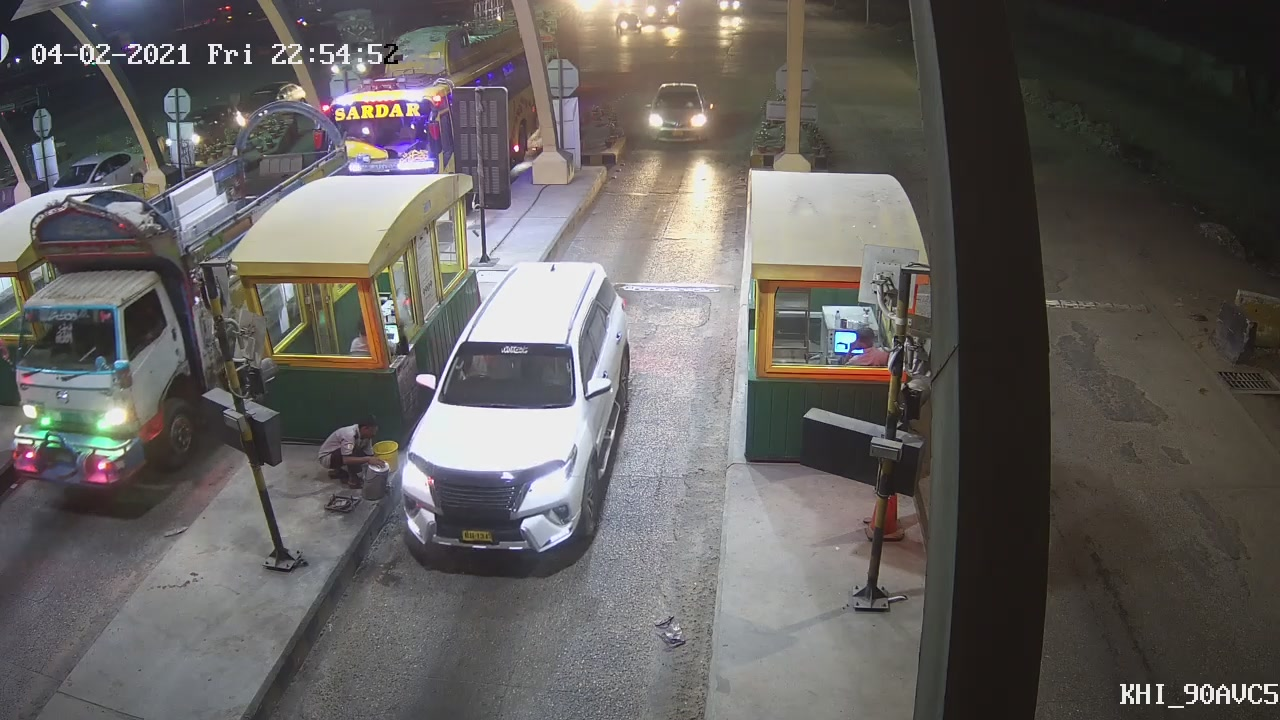F1: (390, 251, 631, 566)
